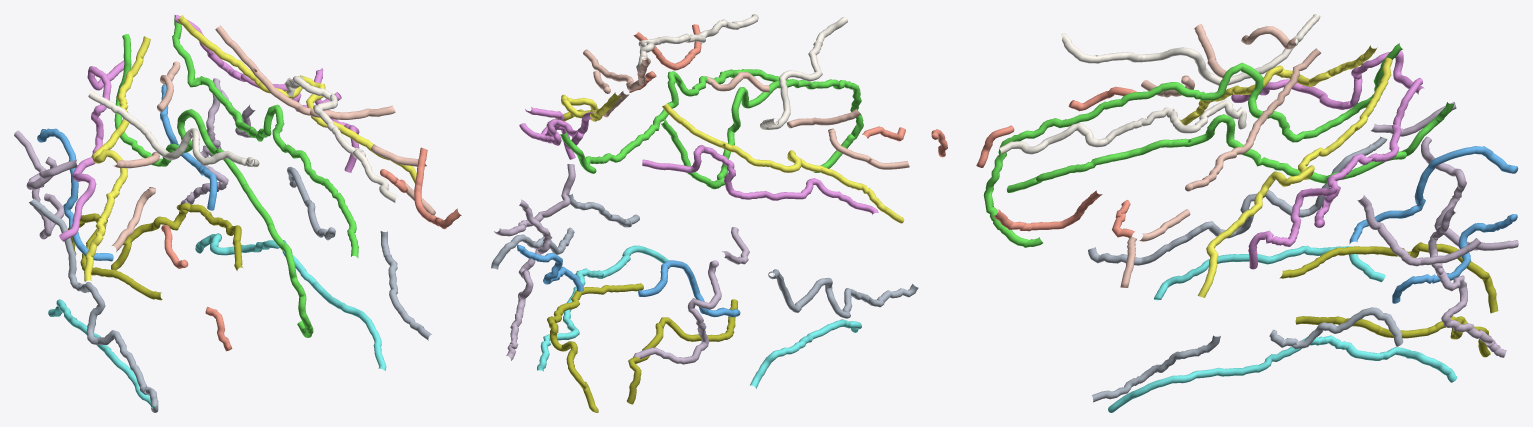
Rendered from sulci.lod0.glb.
3 views of the same model, side by side, from view 1: azimuth 30°, elevation 25°; view 2: azimuth 150°, elevation 25°; view 3: azimuth 270°, elevation 25° (orthographic). The views are drawn at different scales.
Visible parts, largest first — view 1: cingulate-sulcus-r, cingulate-sulcus-l, superior-temporal-sulcus-r, central-sulcus-r, precentral-sulcus-l, collateral-sulcus-l, postcentral-sulcus-r, central-sulcus-l, superior-frontal-sulcus-r, superior-temporal-sulcus-l, calcarine-sulcus-l, superior-frontal-sulcus-l (+10 smaller); view 2: cingulate-sulcus-r, cingulate-sulcus-l, intraparietal-sulcus-l, postcentral-sulcus-r, central-sulcus-r, intraparietal-sulcus-r, precentral-sulcus-r, superior-temporal-sulcus-r, calcarine-sulcus-l, collateral-sulcus-l, superior-temporal-sulcus-l, superior-frontal-sulcus-r (+10 smaller); view 3: cingulate-sulcus-r, cingulate-sulcus-l, intraparietal-sulcus-l, collateral-sulcus-l, postcentral-sulcus-l, central-sulcus-l, superior-temporal-sulcus-l, superior-frontal-sulcus-l, superior-temporal-sulcus-r, precentral-sulcus-l, superior-frontal-sulcus-r, intraparietal-sulcus-r (+10 smaller).
Boxes of the visible parts, x1,y1,x2,y2 form: cingulate-sulcus-r: (114,34,313,337); cingulate-sulcus-l: (172,15,358,257); superior-temporal-sulcus-r: (29,198,158,412); central-sulcus-r: (84,36,150,281); precentral-sulcus-l: (215,25,435,215); collateral-sulcus-l: (195,233,386,370); postcentral-sulcus-r: (59,60,124,241); central-sulcus-l: (177,15,416,183); superior-frontal-sulcus-r: (88,90,259,167); superior-temporal-sulcus-l: (287,166,431,340); calcarine-sulcus-l: (111,202,242,270); superior-frontal-sulcus-l: (285,76,397,202); cingulate-sulcus-r: (660,79,863,189); cingulate-sulcus-l: (560,69,788,173); intraparietal-sulcus-l: (494,164,575,360); postcentral-sulcus-r: (642,145,878,214); central-sulcus-r: (662,103,904,223); intraparietal-sulcus-r: (633,227,749,364); precentral-sulcus-r: (706,72,909,169); superior-temporal-sulcus-r: (768,269,918,318); calcarine-sulcus-l: (547,283,643,412); collateral-sulcus-l: (537,245,668,371); superior-temporal-sulcus-l: (491,194,639,269); superior-frontal-sulcus-r: (760,17,847,129); cingulate-sulcus-r: (983,43,1402,247); cingulate-sulcus-l: (1007,102,1454,192); intraparietal-sulcus-l: (1357,195,1506,357); collateral-sulcus-l: (1108,335,1457,412); postcentral-sulcus-l: (1248,78,1422,269); central-sulcus-l: (1198,57,1392,297); superior-temporal-sulcus-l: (1092,307,1403,402); superior-frontal-sulcus-l: (999,100,1246,154); superior-temporal-sulcus-r: (1088,136,1387,265); precentral-sulcus-l: (1120,48,1320,287); superior-frontal-sulcus-r: (1061,14,1320,85); intraparietal-sulcus-r: (1371,102,1518,250).
Bounding box in the file's own units: 0.1193 × 0.0977 × 0.1472.
